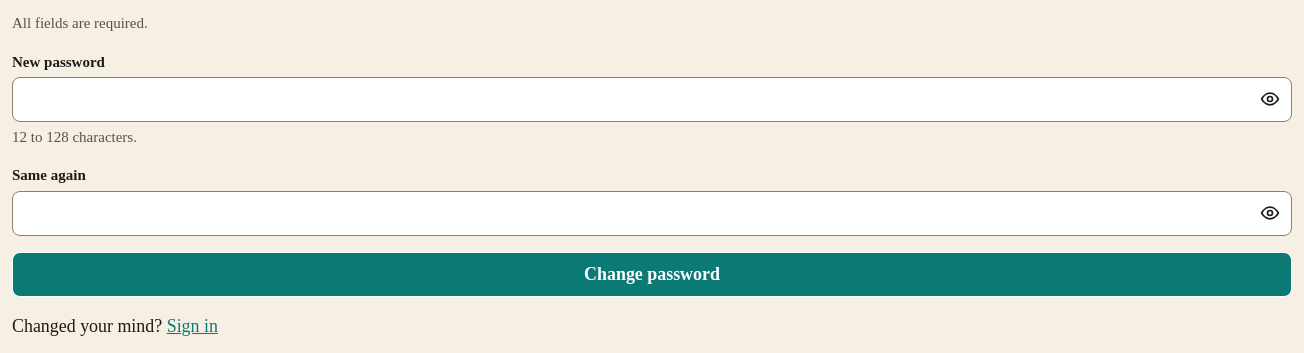
Test: ResetPasswordForm › swaps the form for the invalid link state when Nest refuses the token
The image size is (1304, 353).
In the password field labelled "New password": (652, 99) [12,77,1292,122], type "not-a-real-password"
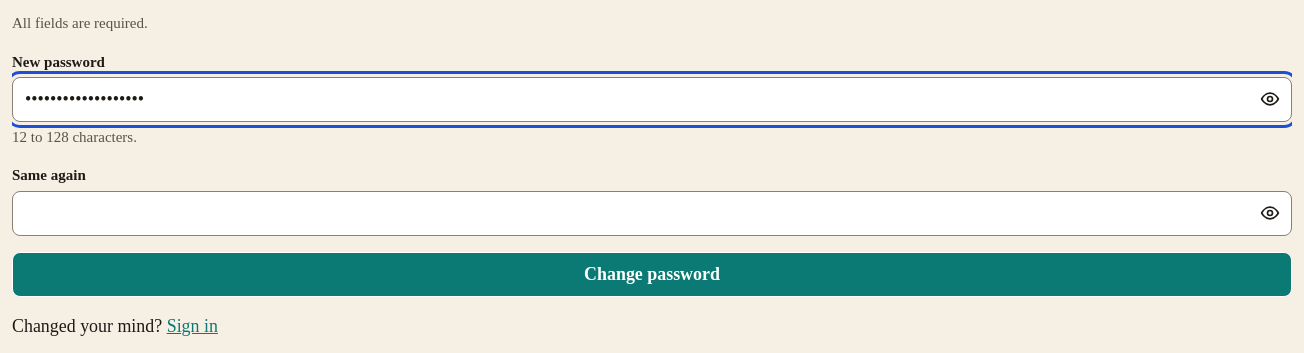
In the password field labelled "Same again": (652, 213) [12,191,1292,236], type "not-a-real-password"
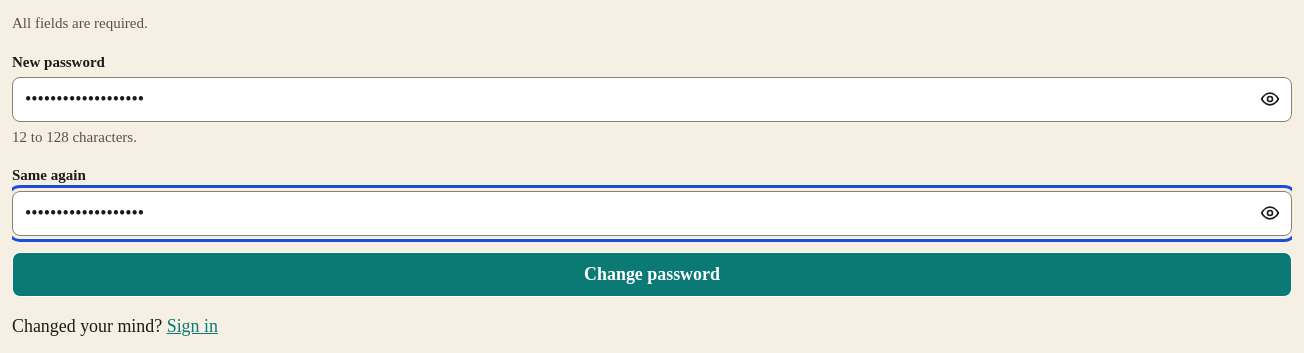
Click the button "Change password": (652, 274) [12,252,1292,297]
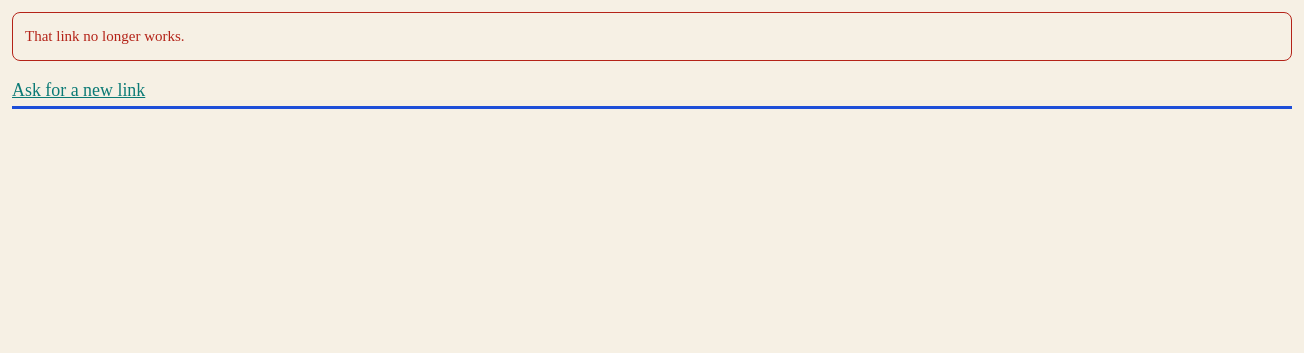
Now the text "That link no longer works." is shown, box [12,12,1292,60]
Now the label labelled "New password" is gone
Now the text "All fields are required." is gone
